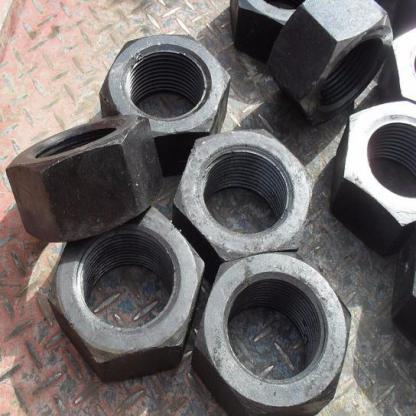FOD: (46, 200, 204, 387), (191, 249, 352, 415), (170, 126, 313, 274), (4, 113, 163, 246), (97, 32, 231, 174), (270, 0, 402, 123), (329, 93, 415, 259)
